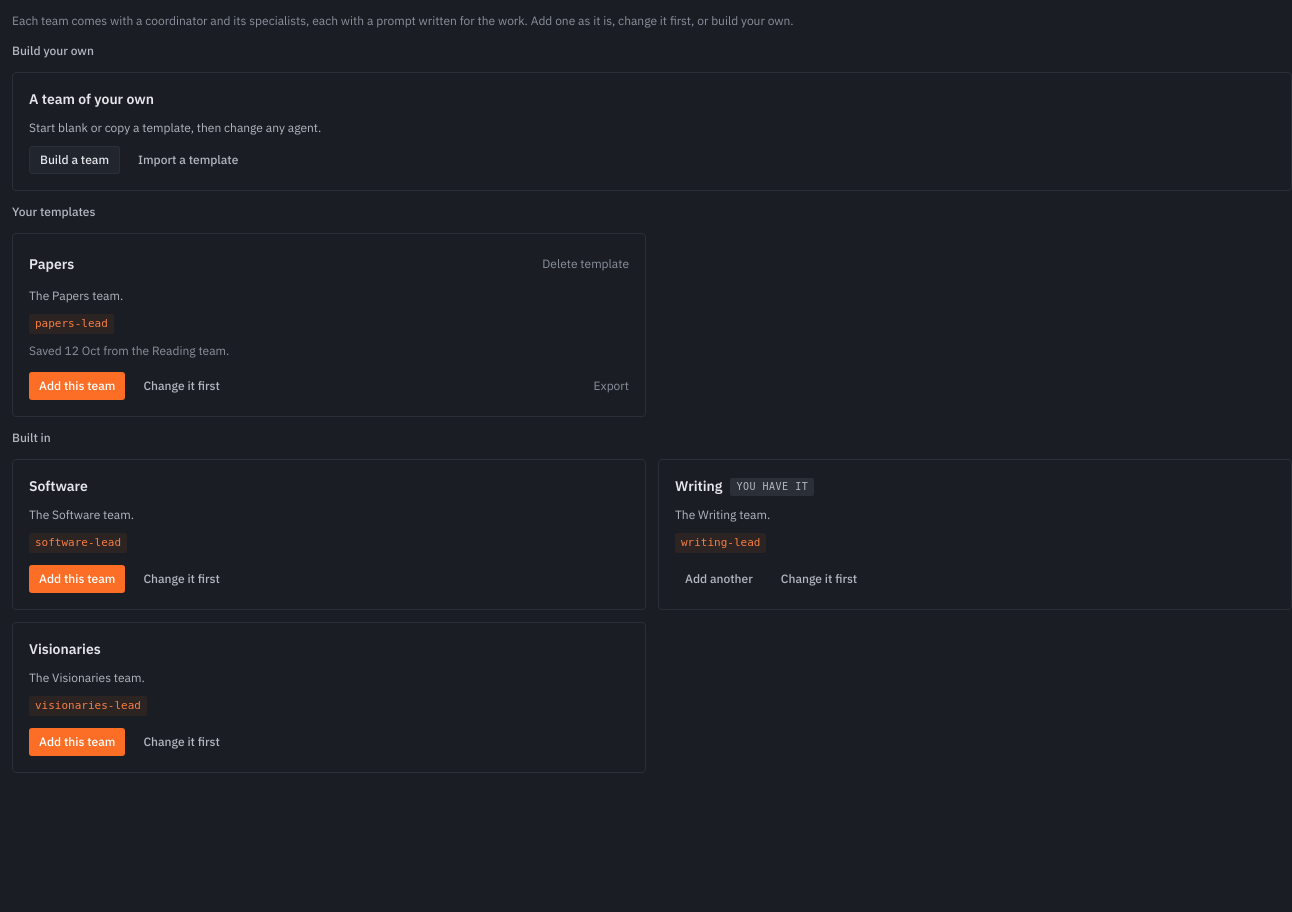
it: AddTeam: deleting a template of yours › asks in its card, focus on Keep, in place of its actions
The image size is (1292, 912).
Click the button with aria-label "Delete template, Papers".
click(586, 264)  # box [542,250,629,278]
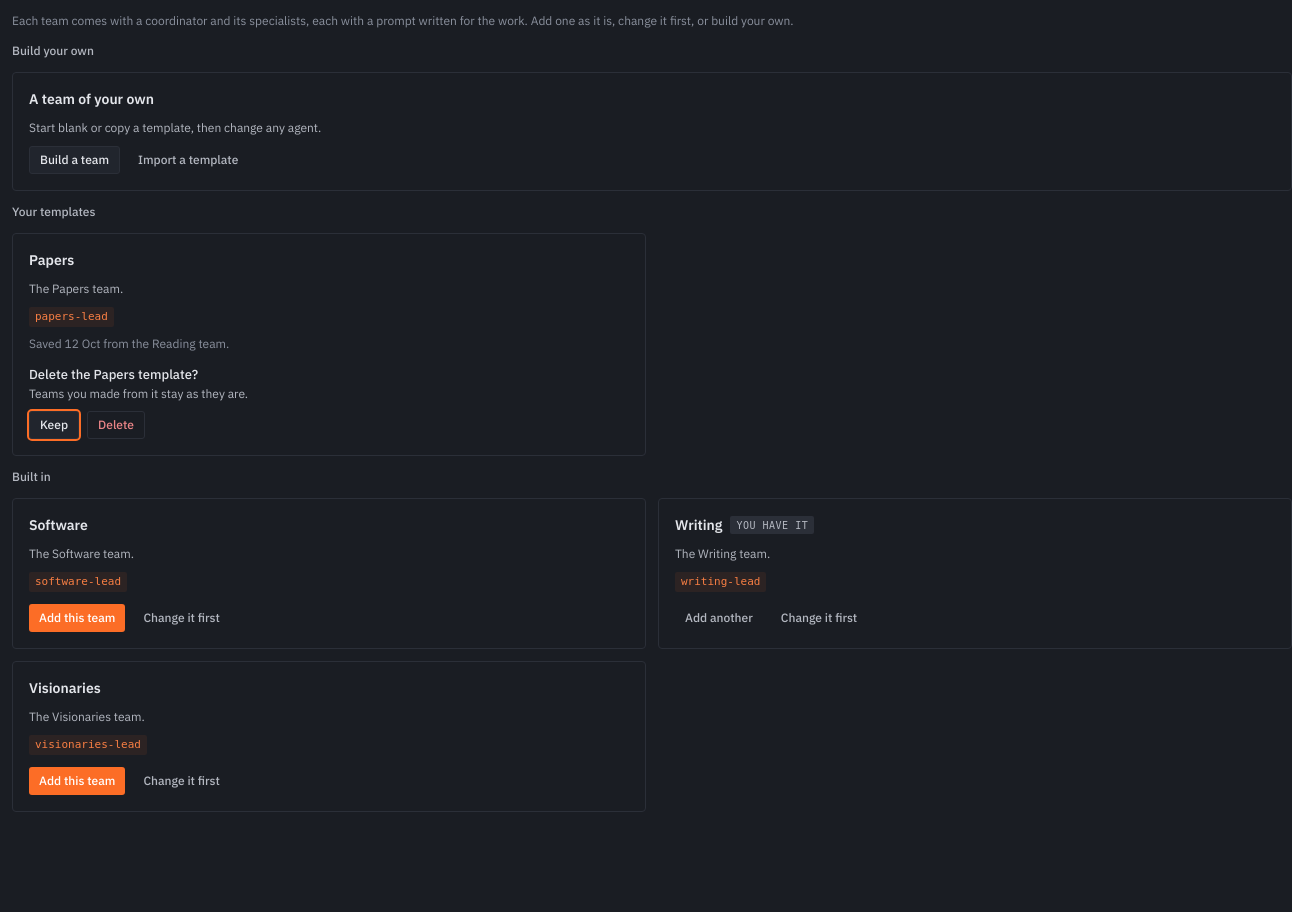
Result: the element "Delete the Papers template?" shows "Teams you made from it stay as they are." at [29,386,248,400]
Result: the button "Delete template" is gone
